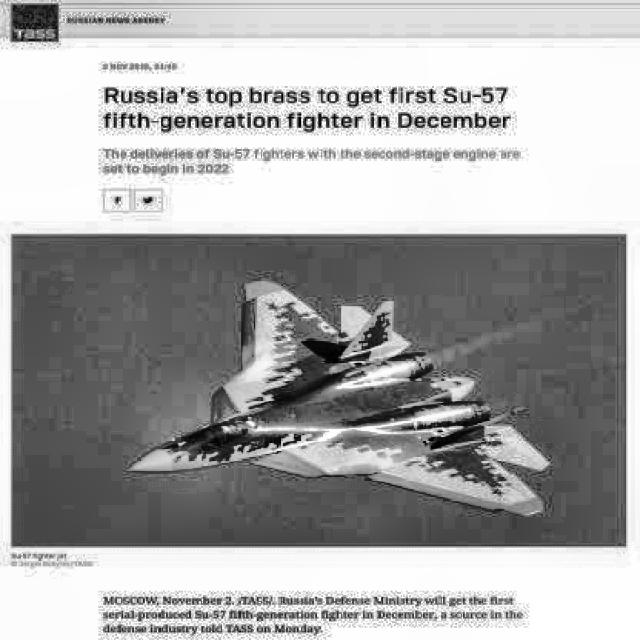Su57: (127, 279, 551, 516)
